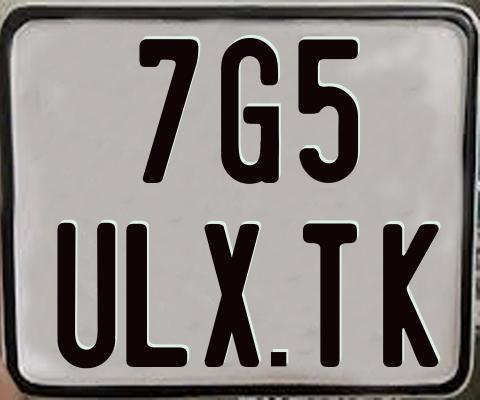5: (297, 38, 360, 186)
7: (137, 38, 201, 182)
G: (219, 35, 280, 185)
K: (382, 223, 444, 371)
L: (126, 224, 191, 372)
T: (302, 220, 361, 368)
U: (55, 221, 116, 373)
X: (204, 223, 260, 367)
